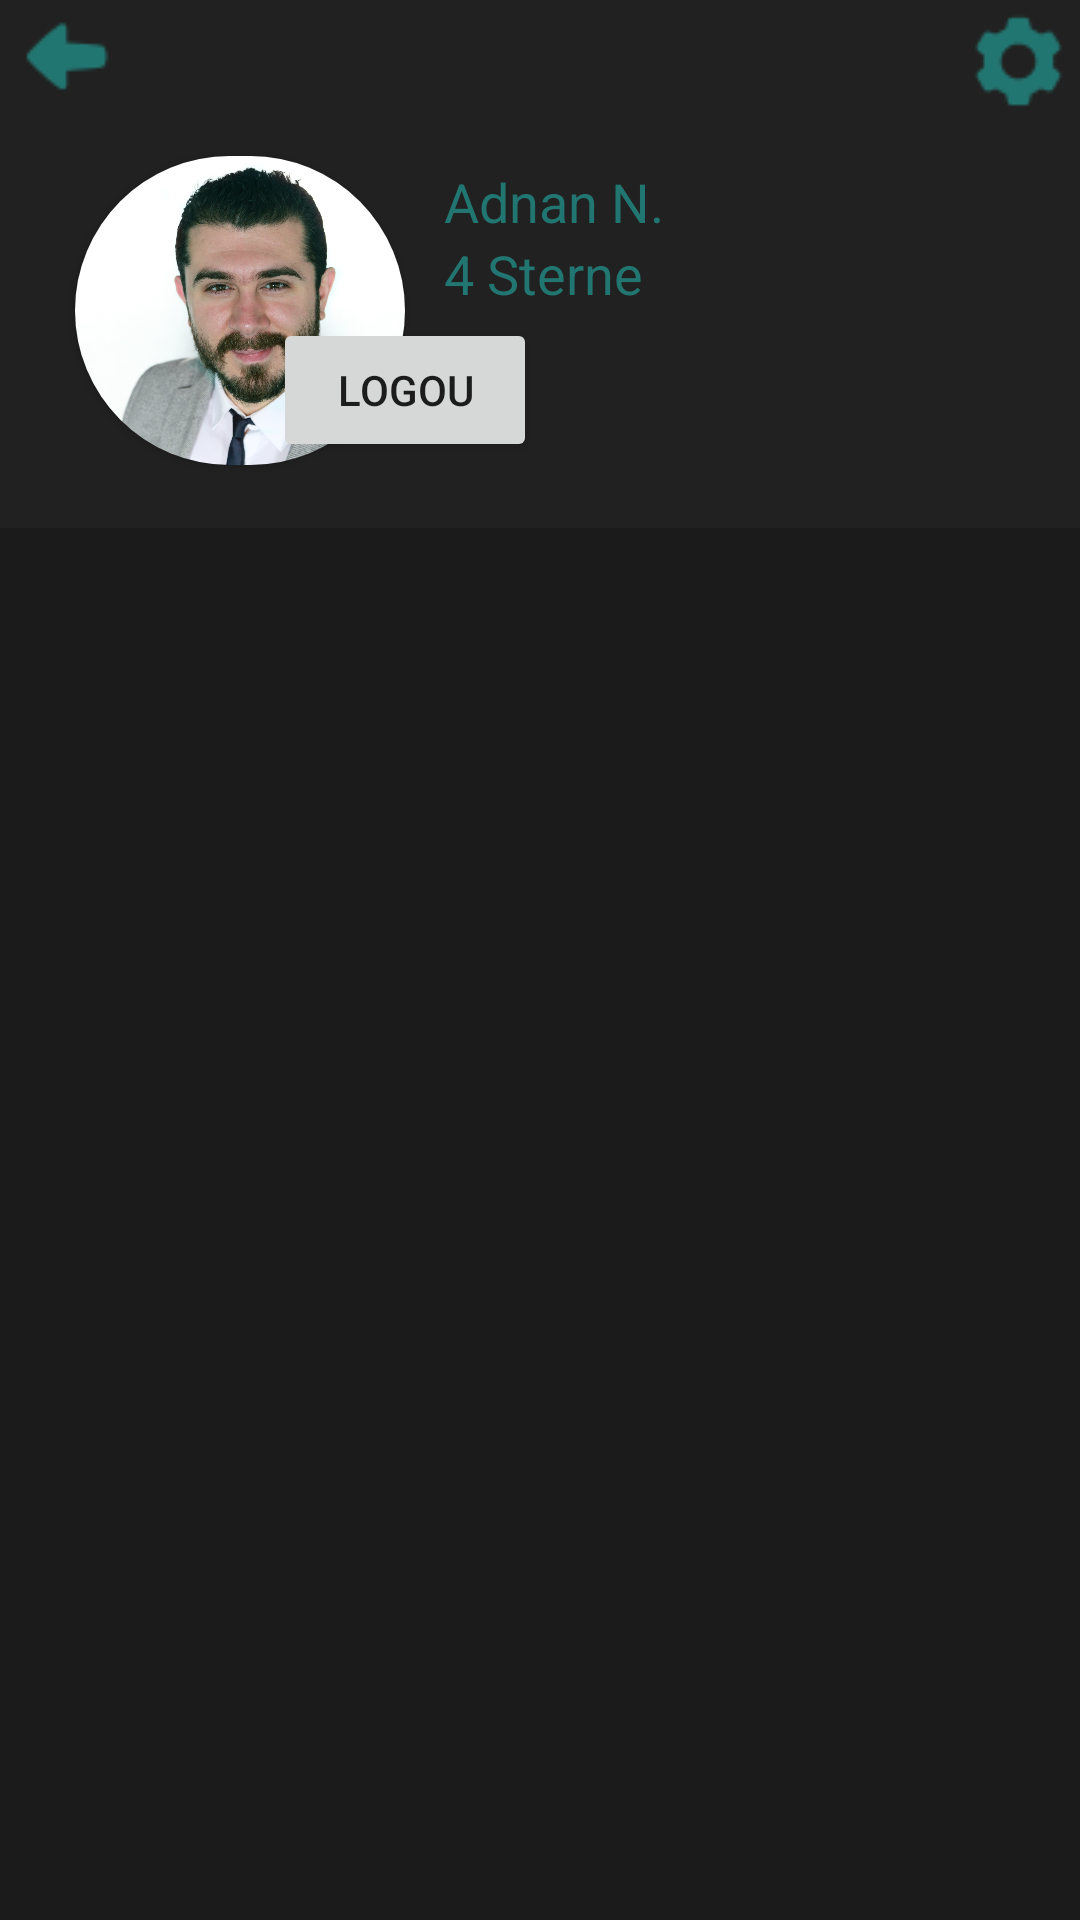

Icons on this 1080×1920 Android screen, each with the point to tap as [x,y]:
left arrow: [67,56]
settings: [1018,61]
